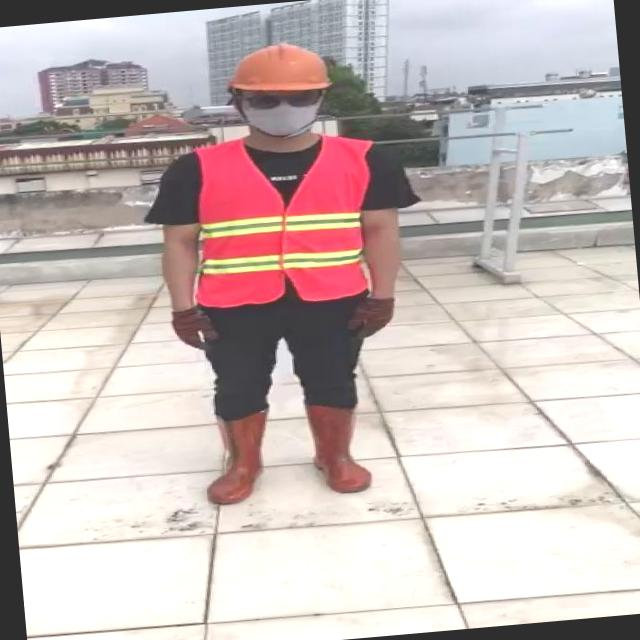boots: (198, 406, 277, 506), (304, 400, 376, 495)
gloves: (164, 297, 230, 361), (341, 286, 408, 348)
helmet: (224, 39, 332, 100)
vest: (188, 131, 382, 308)
